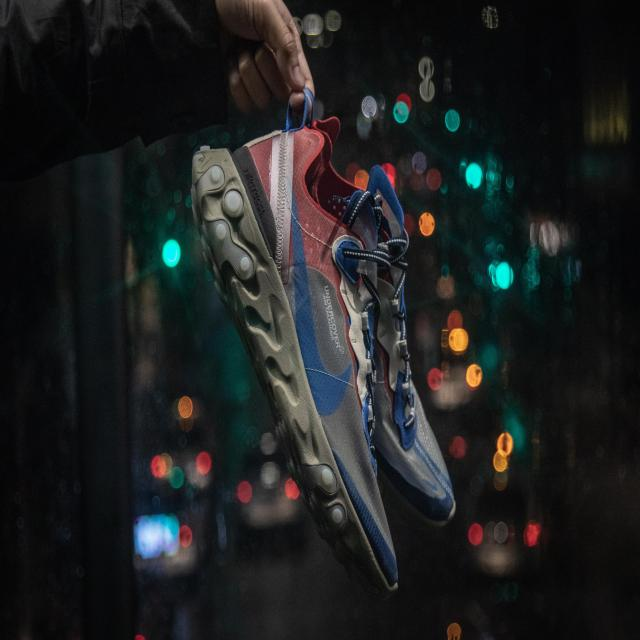shoe: (185, 98, 409, 610), (352, 134, 471, 528)
